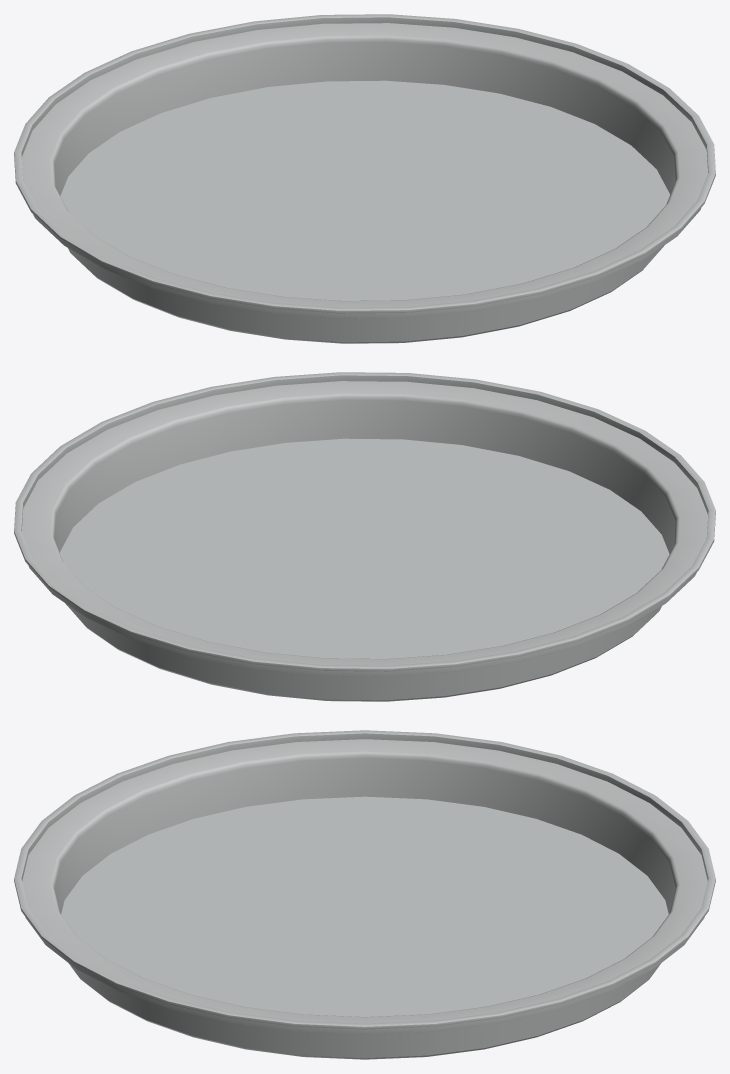
Rendered from Salver02.FBX.
The picture shows the model from 3 angles, top to bottom: view 1: azimuth 30°, elevation 25°; view 2: azimuth 150°, elevation 25°; view 3: azimuth 270°, elevation 25°; orthographic projection.
Visible parts, largest first — view 1: Salver02; view 2: Salver02; view 3: Salver02.
Part boxes in pixels (x1,y1,x2,y2): Salver02: [14, 14, 715, 343]; Salver02: [14, 372, 715, 701]; Salver02: [14, 730, 715, 1059].
Bounding box in the file's own units: 44.56 × 3.64 × 44.56.
